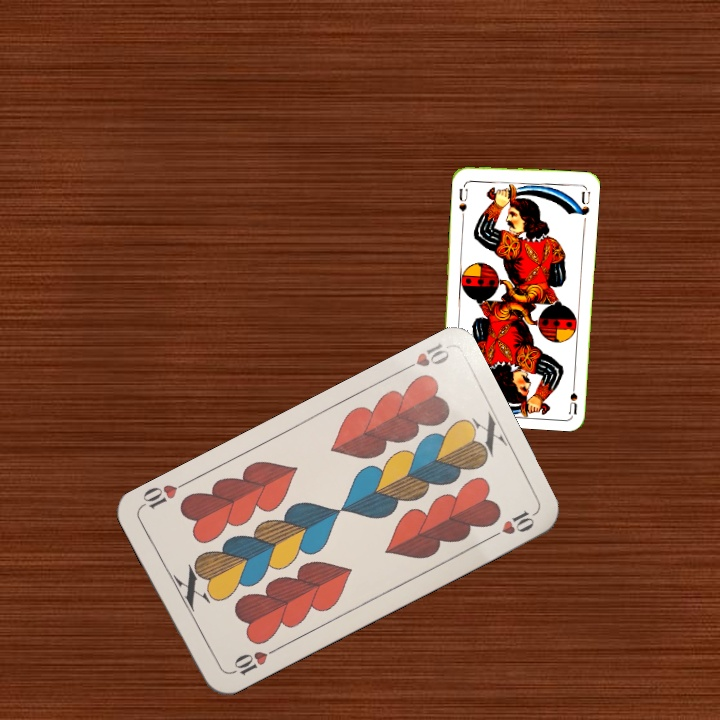H10: (395, 339, 452, 376), (224, 644, 279, 679)
SU: (565, 375, 580, 415), (455, 184, 470, 219)
